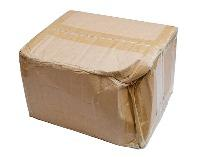undamaged: (15, 7, 183, 151)
